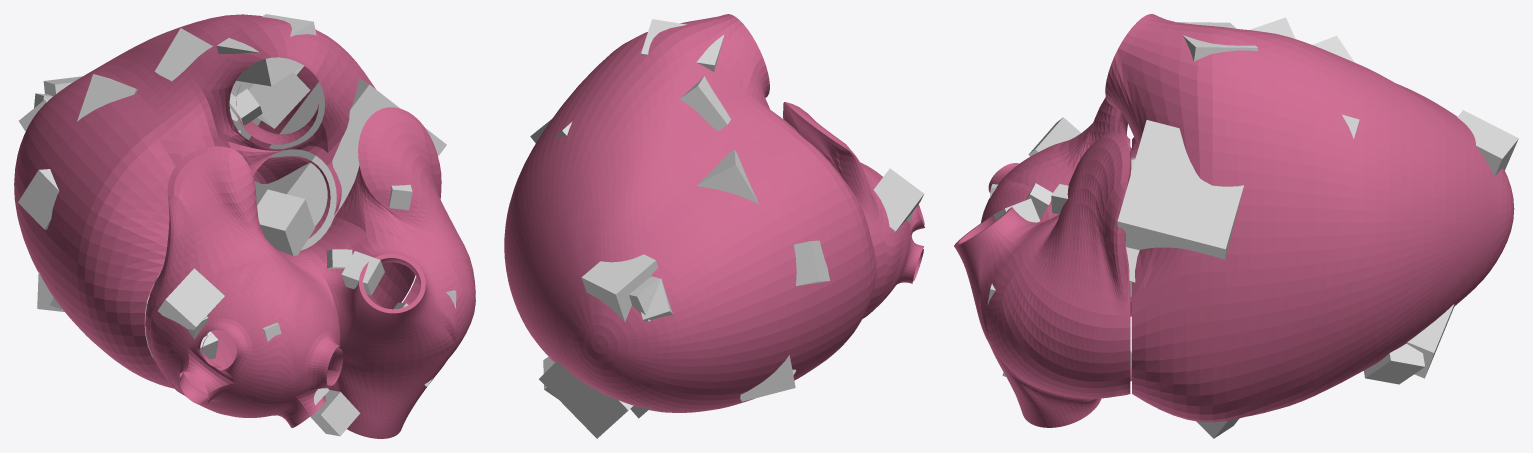
File: non_hra_mapping.glb
3 views of the same model, side by side, from view 1: azimuth 30°, elevation 25°; view 2: azimuth 150°, elevation 25°; view 3: azimuth 270°, elevation 25° (orthographic). The views are drawn at different scales.
Visible parts, largest first — view 1: world; view 2: world; view 3: world.
Boxes of the visible parts, left/top/right/bottom form: world: left=14, top=14, right=475, bottom=438; world: left=504, top=14, right=924, bottom=438; world: left=954, top=14, right=1518, bottom=438.
Size of the model in its own units: 1.25 by 1.26 by 1.68.
